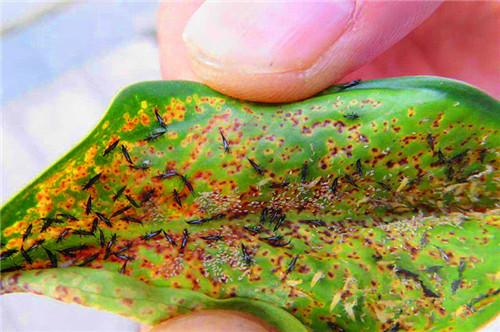Phlaeothripidae: (41, 244, 59, 278), (79, 169, 102, 193), (125, 193, 146, 214), (246, 155, 266, 177), (431, 242, 451, 264), (93, 211, 117, 229), (241, 242, 256, 268), (140, 130, 167, 144), (110, 184, 128, 205), (216, 130, 230, 156), (167, 188, 182, 212), (140, 228, 164, 243), (17, 243, 34, 264), (284, 252, 299, 274), (120, 143, 135, 164), (337, 79, 363, 91), (154, 110, 166, 134), (340, 108, 358, 124), (162, 229, 177, 248), (141, 187, 156, 205), (267, 180, 289, 192), (55, 211, 79, 222), (20, 225, 33, 244), (425, 133, 437, 153), (180, 228, 189, 251), (200, 234, 223, 243), (273, 214, 284, 232), (300, 156, 308, 180), (85, 194, 93, 218), (354, 160, 363, 179), (41, 221, 52, 233), (118, 260, 126, 275)
